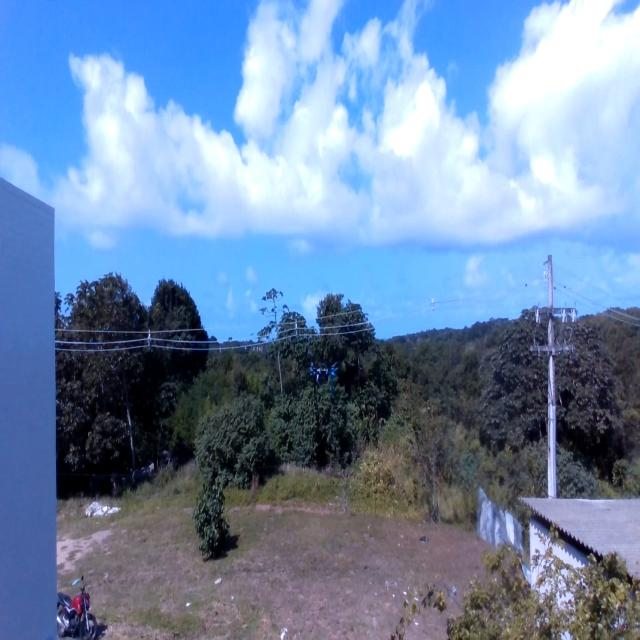-uav-: (305, 354, 344, 405)
